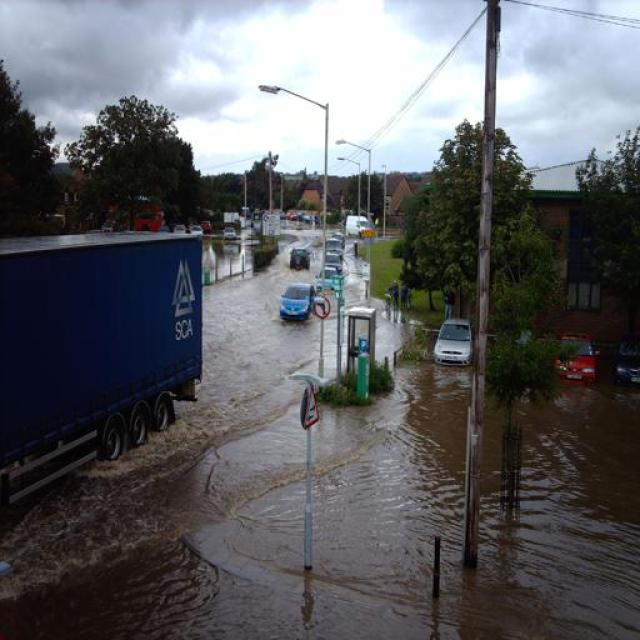puddle: (12, 547, 633, 638), (209, 399, 465, 577), (531, 410, 633, 590), (211, 288, 282, 467)
